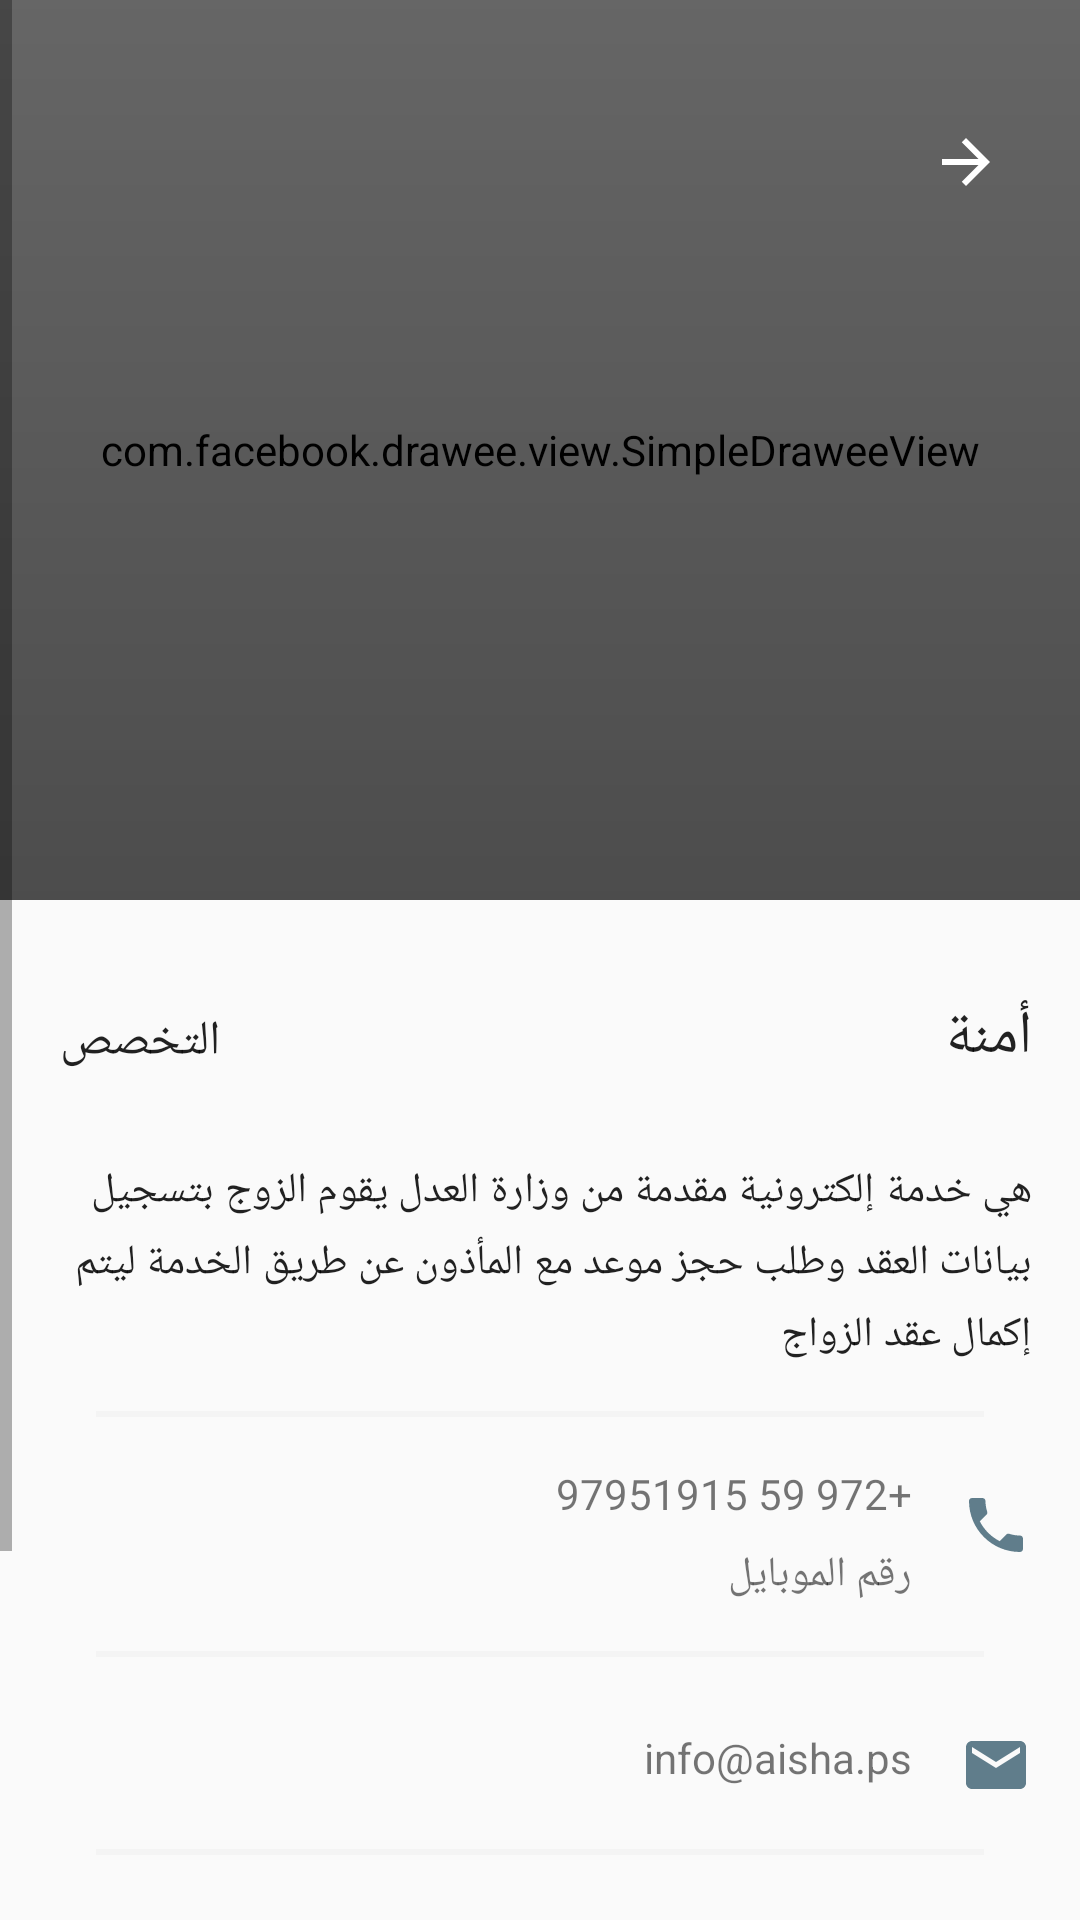

Icon click points for this 1080px x 1920px phone screenshot, format point (x, y):
call: point (996, 1525)
email: point (996, 1765)
